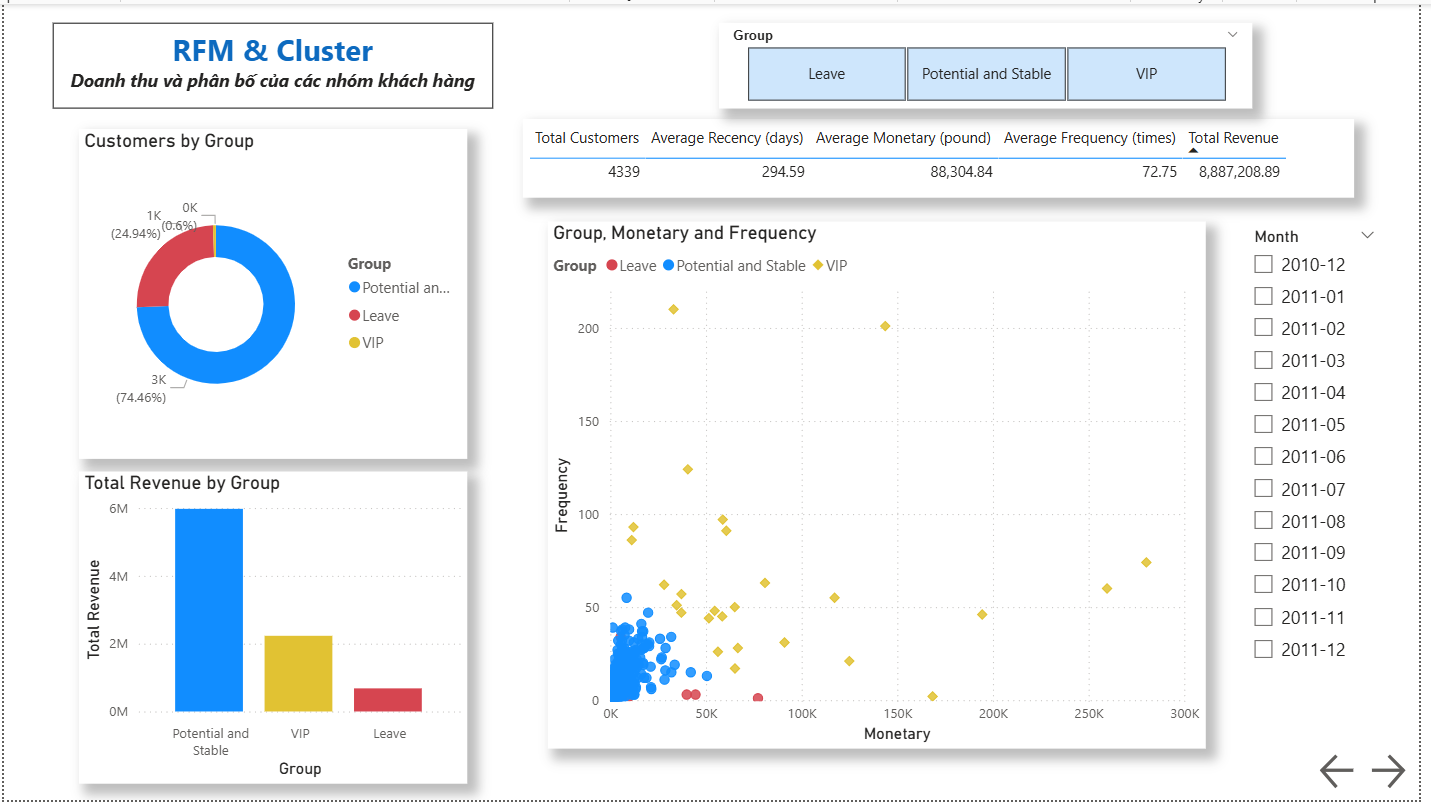

The page's visual inventory and layout, read from the dashboard file:
{"tool":"powerbi","page":{"name":"RFM & Cluster","canvas":[1280,720],"ordinal":1},"visuals":[{"type":"donutChart","title":"Customers by Group","fields":{"Category":["cluster_summary.Group"],"Y":["Sum(cluster_summary.n_customers)"]},"box":[67.7,103.5,351,316.6],"z":0},{"type":"columnChart","fields":{"Y":["Fact.Total Revenue"],"Category":["cluster_summary.Group"]},"box":[67.7,454.5,351,266.1],"z":1000},{"type":"tableEx","fields":{"Values":["Sum(cluster_summary.n_customers)","Sum(cluster_summary.avg_recency)","Sum(cluster_summary.avg_monetary)","Sum(cluster_summary.avg_frequency)","Sum(cluster_summary.revenue)"]},"box":[523.5,103.5,729.2,71.4],"z":3000},{"type":"textbox","box":[28.3,17.2,300.5,37],"z":4000},{"type":"slicer","fields":{"Values":["cluster_summary.Group"]},"box":[646.7,17.2,484.1,67.7],"z":4002},{"type":"slicer","fields":{"Values":["Date.Month"]},"box":[1118.4,232.8,134.3,421.3],"z":4003},{"type":"scatterChart","fields":{"Y":["customers_rfm.Frequency"],"X":["customers_rfm.Monetary"],"Series":["cluster_summary.Group"]},"box":[491.5,197.1,594.9,476.7],"z":4004}]}

Visuals, with their boxes in screenshot pixels (x1, y1, x2, y2), scaled from the page's 1280x720 canvas onto the 1431x802 screenshot:
"Customers by Group" donutChart: left=76, top=115, right=468, bottom=468
columnChart - Fact.Total Revenue x cluster_summary.Group: left=76, top=506, right=468, bottom=801
tableEx - Sum(cluster_summary.n_customers) x Sum(cluster_summary.avg_recency): left=585, top=115, right=1400, bottom=195
textbox: left=32, top=19, right=368, bottom=60
slicer - cluster_summary.Group: left=723, top=19, right=1264, bottom=95
slicer - Date.Month: left=1250, top=259, right=1400, bottom=729
scatterChart - customers_rfm.Frequency x customers_rfm.Monetary: left=549, top=220, right=1215, bottom=751
